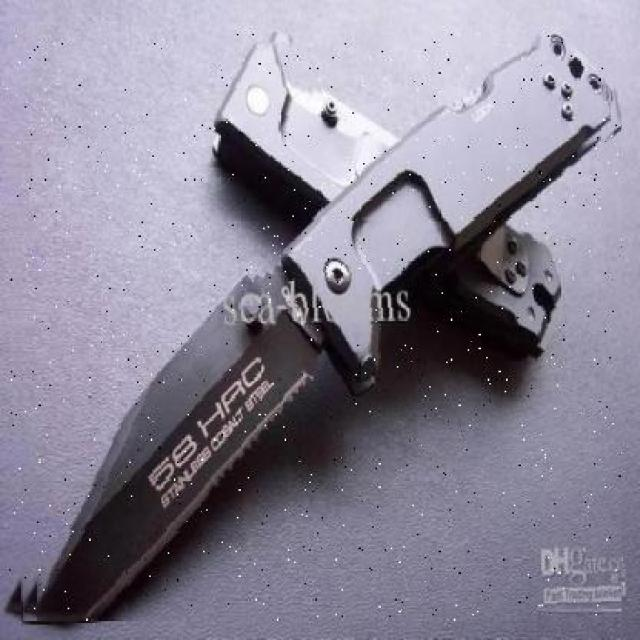knife: (7, 35, 622, 620), (220, 34, 560, 363)
